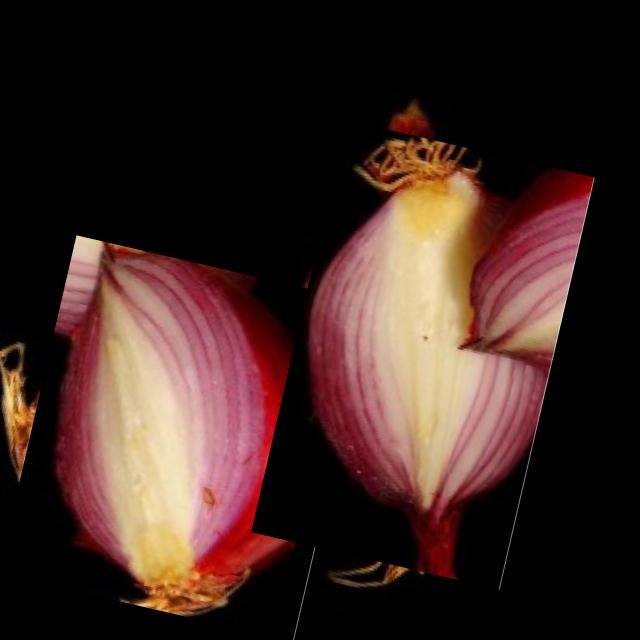Onion: (250, 119, 594, 589), (0, 244, 379, 637)
